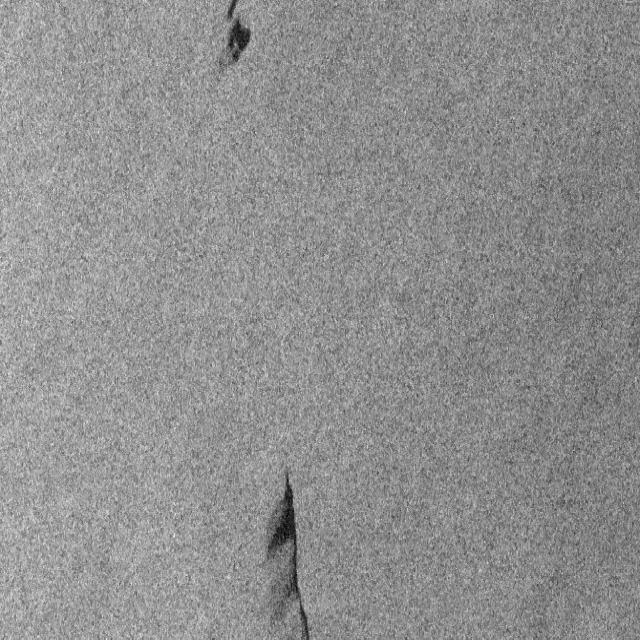oil-spill: (265, 466, 317, 639), (220, 2, 258, 68)
